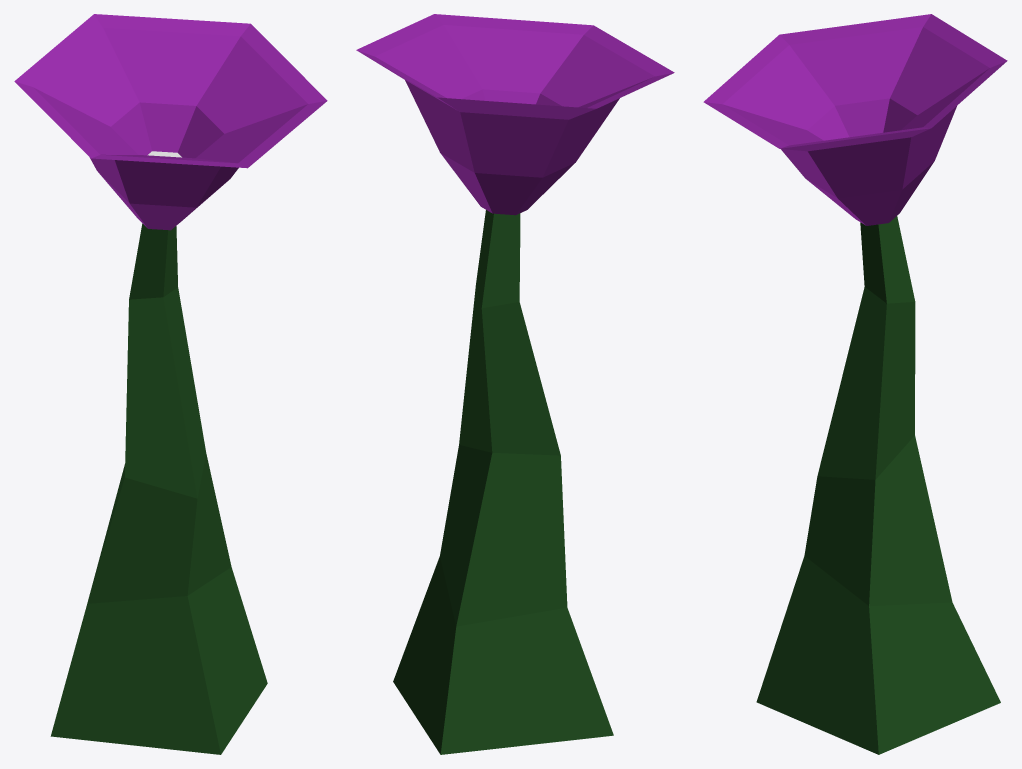
The model's file is purpleflower.fbx.
3 renders of one model, left to right at view 1: azimuth 30°, elevation 25°; view 2: azimuth 150°, elevation 25°; view 3: azimuth 270°, elevation 25°, orthographic. The views are drawn at different scales.
Visible parts, largest first — view 1: Cylinder.001; view 2: Cylinder.001; view 3: Cylinder.001.
Boxes of the visible parts, x1,y1,x2,y2 form: Cylinder.001: [14, 14, 327, 754]; Cylinder.001: [356, 14, 674, 754]; Cylinder.001: [703, 14, 1007, 754].
Size of the model in its own units: 16.25 by 42.56 by 18.29.
